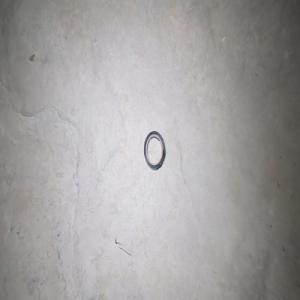Tape: (143, 130, 165, 169)
